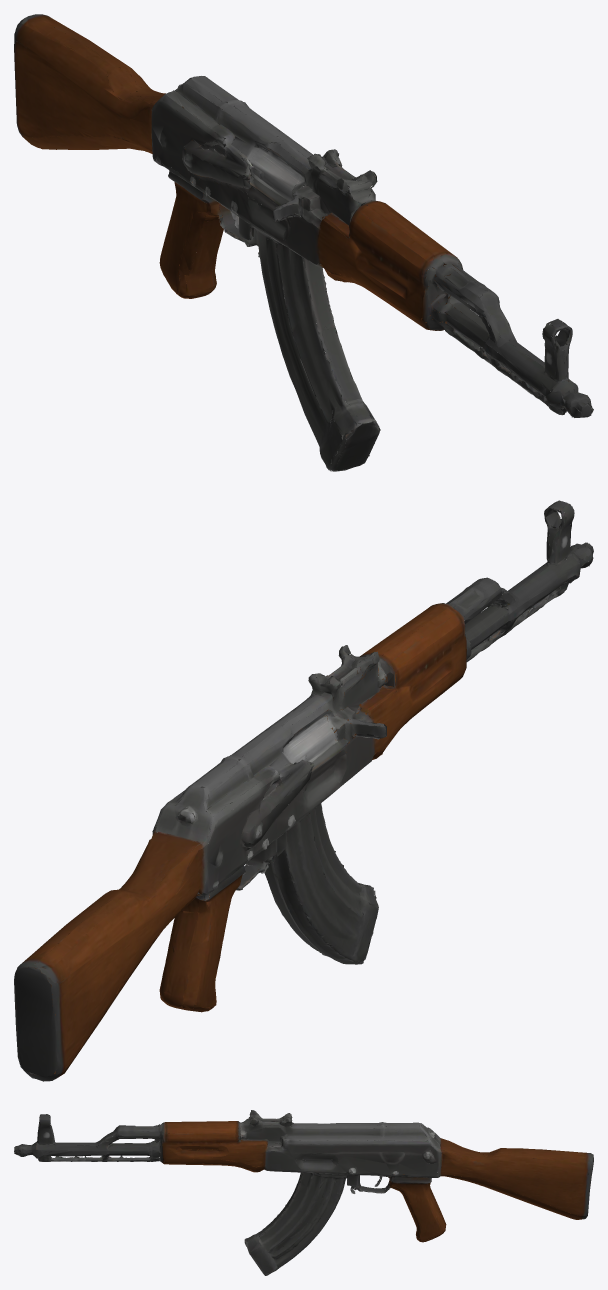
3 renders of one model, top to bottom at view 1: azimuth 30°, elevation 25°; view 2: azimuth 150°, elevation 25°; view 3: azimuth 270°, elevation 25°, orthographic. The views are drawn at different scales.
Parts seen in each view (by area): view 1: ak47; view 2: ak47; view 3: ak47.
Part boxes in pixels (bbox=[...]): ak47: bbox=[14, 14, 593, 471]; ak47: bbox=[14, 500, 593, 1081]; ak47: bbox=[14, 1110, 593, 1275].
Size of the model in its own units: 0.0815 by 0.2666 by 0.88.
1 material, 1 textured.
